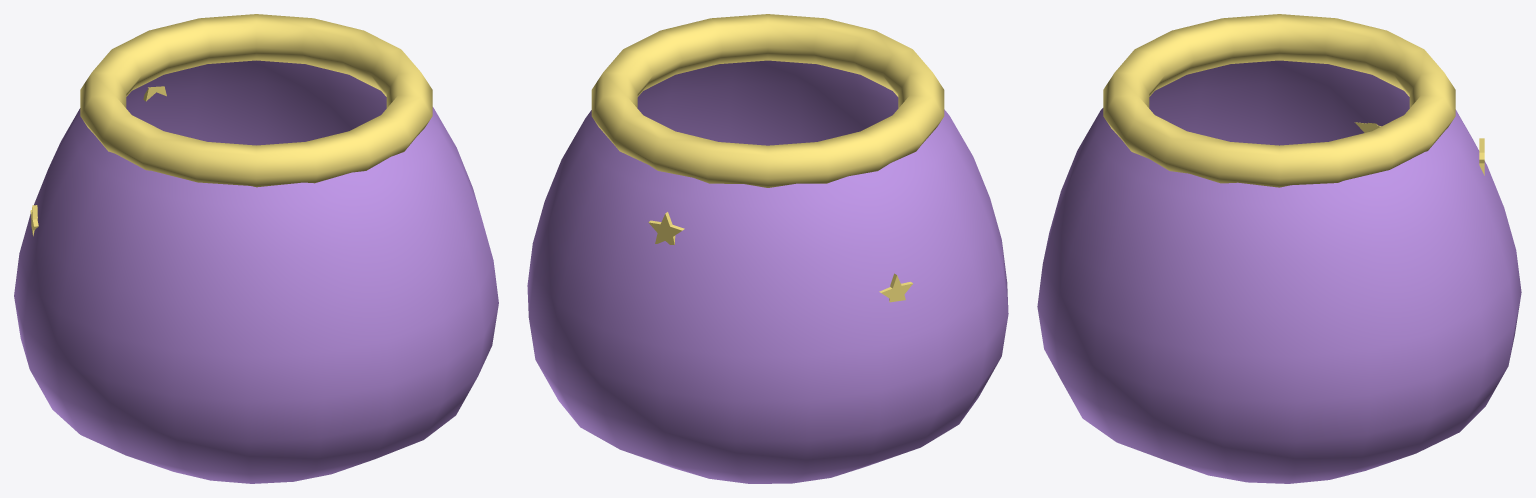
The model's file is wizard_chest.fbx.
The picture shows the model from 3 angles, left to right: view 1: azimuth 30°, elevation 25°; view 2: azimuth 150°, elevation 25°; view 3: azimuth 270°, elevation 25°; orthographic projection.
Parts seen in each view (by area): view 1: wizard_chest; view 2: wizard_chest; view 3: wizard_chest.
Part boxes in pixels (x1,y1,x2,y2): wizard_chest: (14, 14, 498, 483); wizard_chest: (527, 14, 1008, 483); wizard_chest: (1037, 14, 1521, 483).
Size of the model in its own units: 1.87 by 1.46 by 1.87.
